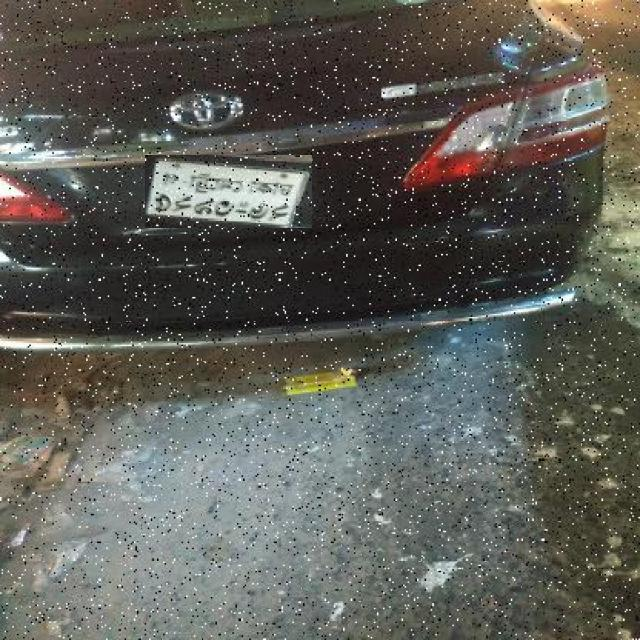numberplate: (145, 155, 312, 228)
